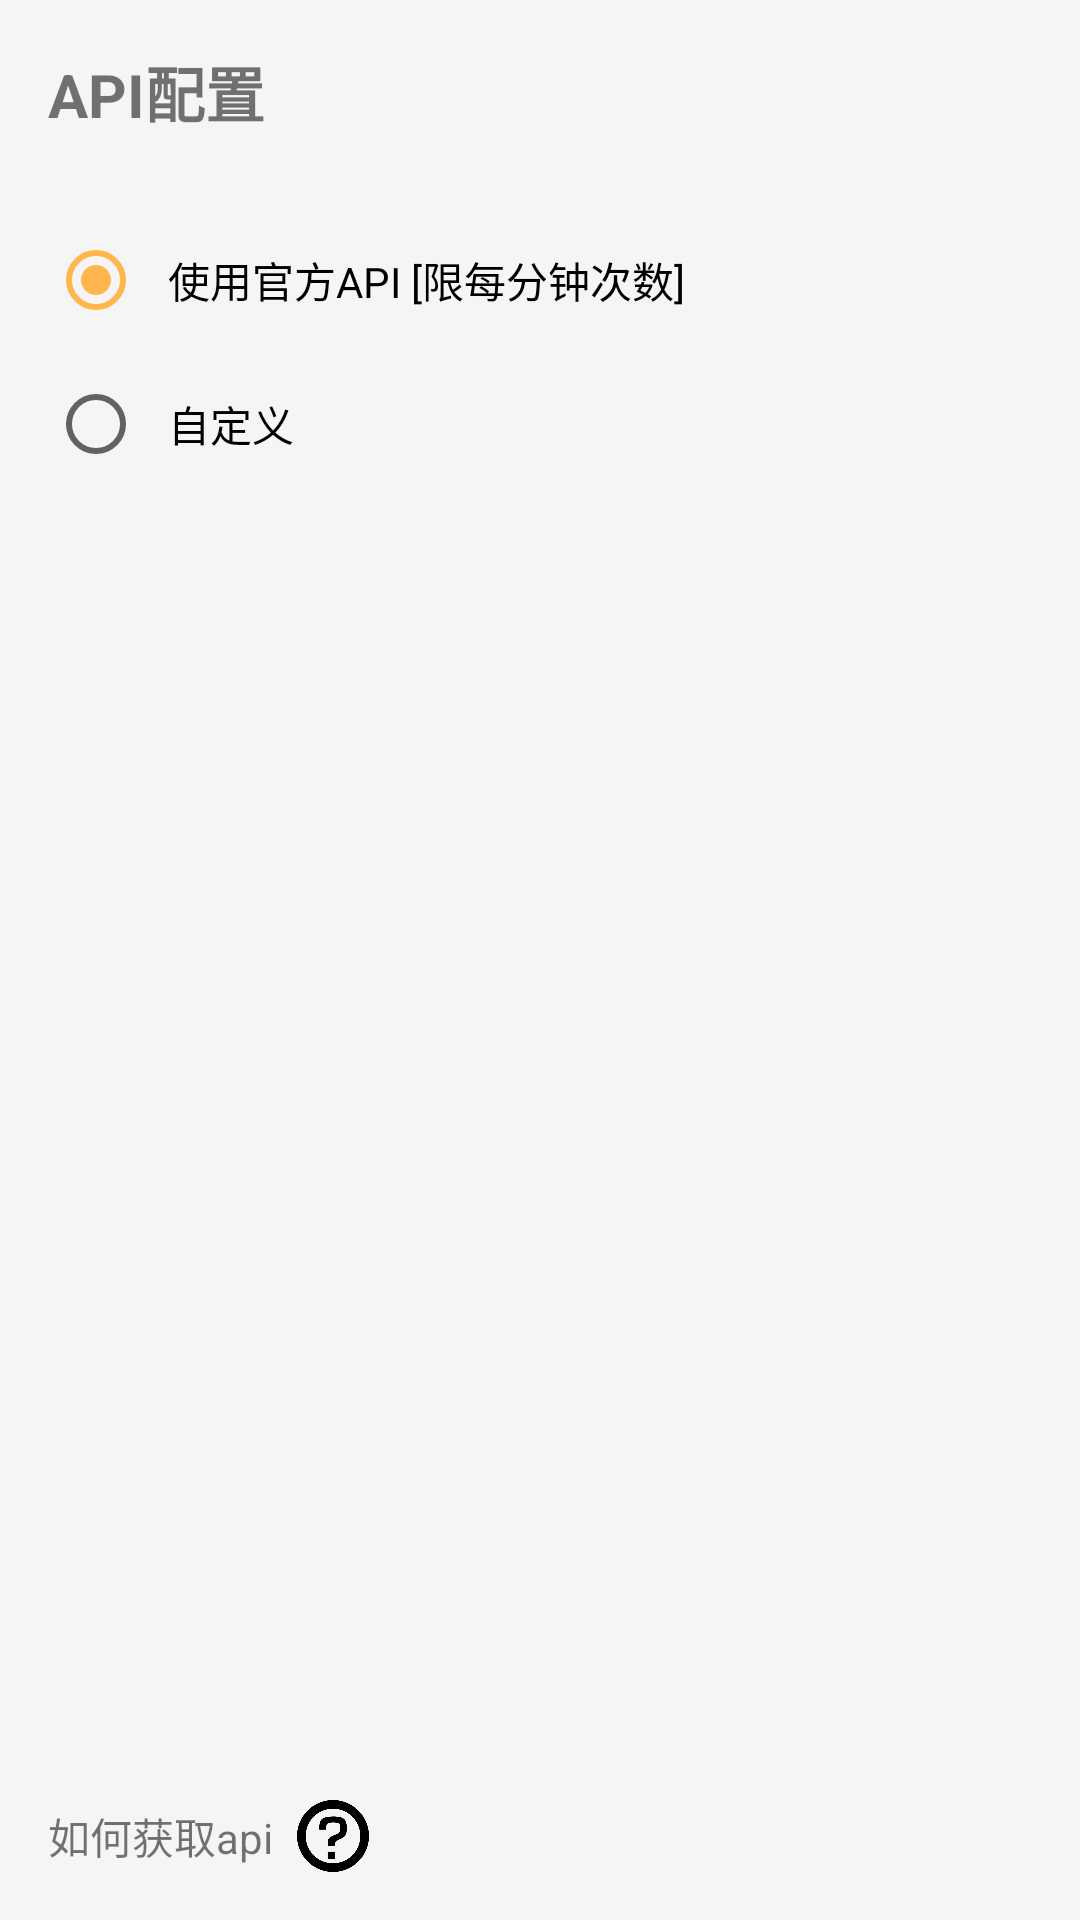

Screen size 1080px×1920px. Icon name, then its center in pixels as [x,y]:
帮助: [333,1836]
